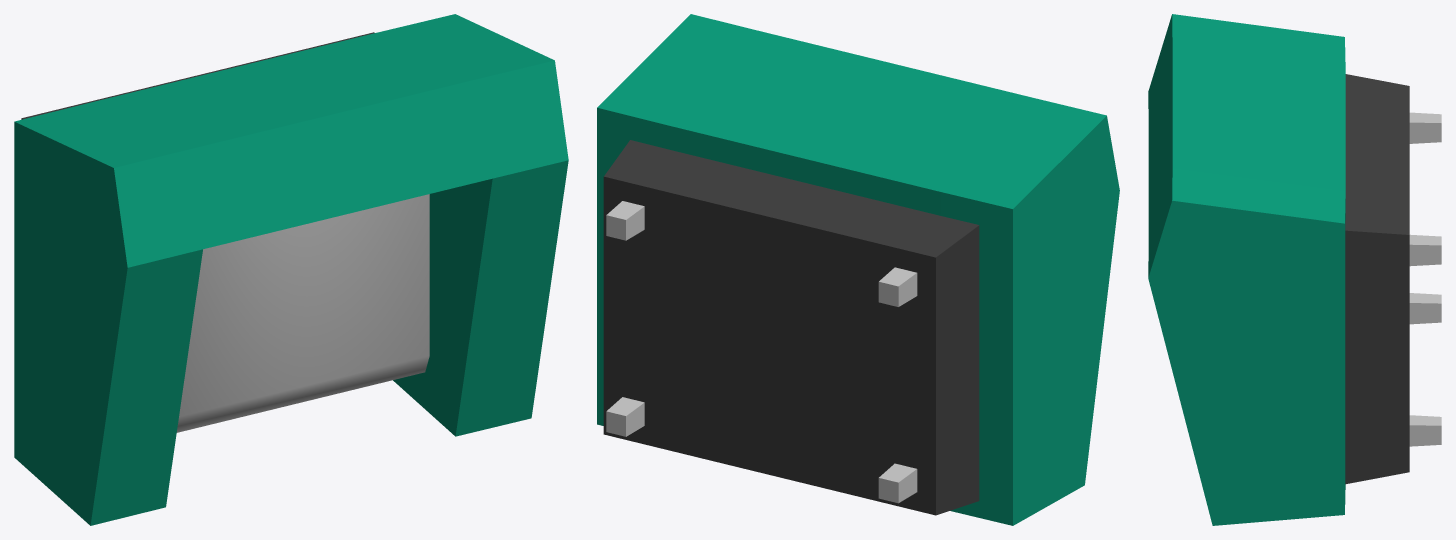
The model's file is Sofa_2_Alt.obj.
3 renders of one model, left to right at view 1: azimuth 30°, elevation 25°; view 2: azimuth 150°, elevation 25°; view 3: azimuth 270°, elevation 25°, orthographic. The views are drawn at different scales.
Visible parts, largest first — view 1: Sofa_2_Alt; view 2: Sofa_2_Alt; view 3: Sofa_2_Alt.
Boxes of the visible parts, x1,y1,x2,y2 form: Sofa_2_Alt: [14, 14, 568, 525]; Sofa_2_Alt: [597, 14, 1119, 525]; Sofa_2_Alt: [1148, 14, 1441, 525].
Size of the model in its own units: 1.15 by 0.9356 by 0.7648.
